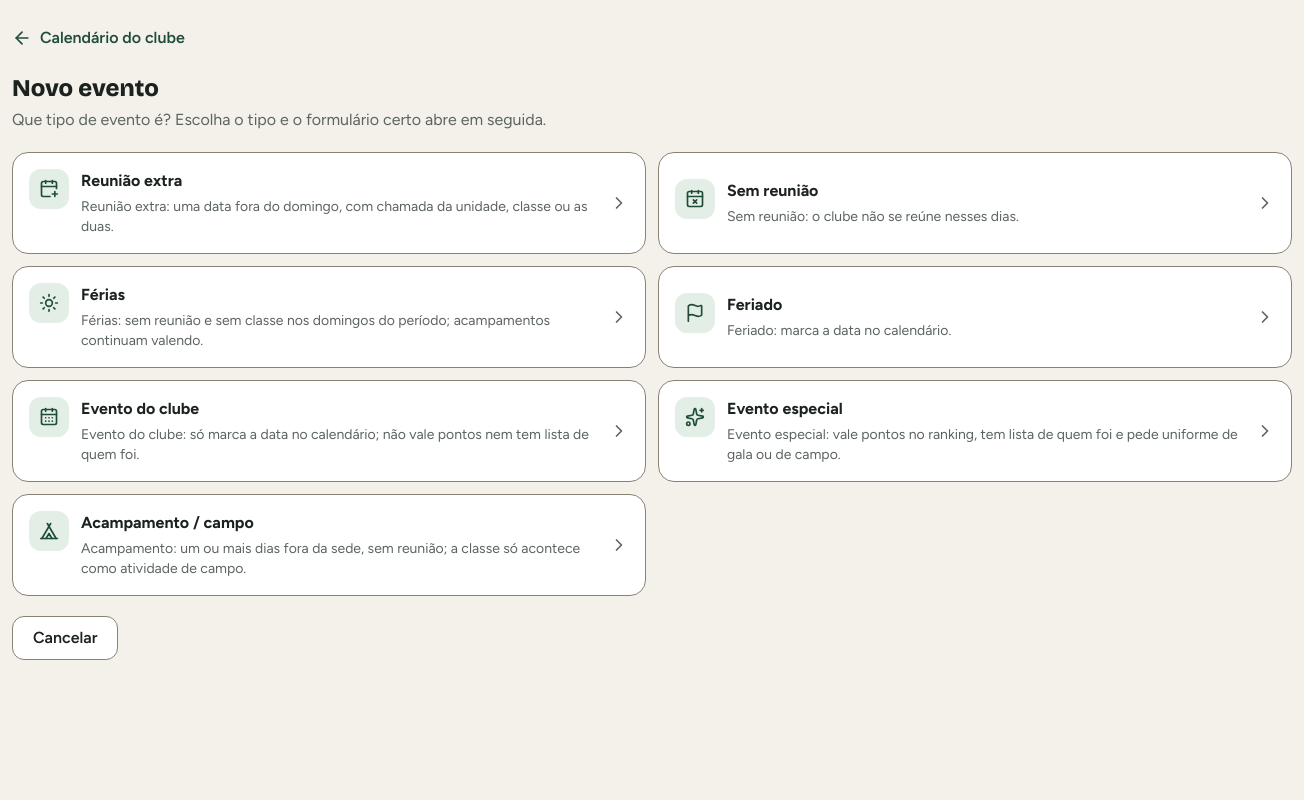
Novo evento · formulário com o tipo escolhido › o cartão leva ao formulário daquele tipo, com a data, sem o seletor e com o selo
Click the link that starts with "Evento especial" at (975, 431), box [658,380,1292,482]
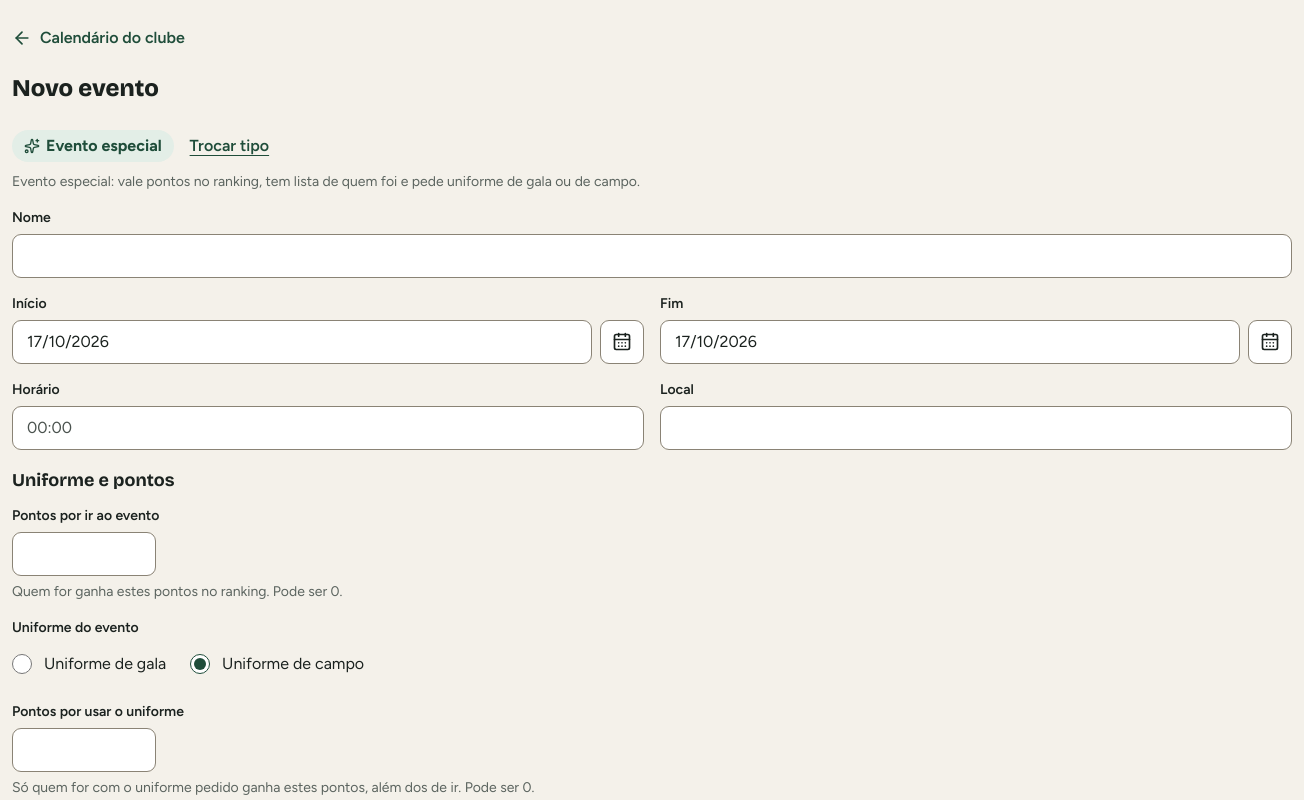
Now the field labelled "Nome" is shown, box [12,234,1292,278]
Now the field labelled "Início" holds "17/10/2026", box [12,320,592,364]
Now the element "Uniforme e pontos" is shown, box [12,469,534,796]
